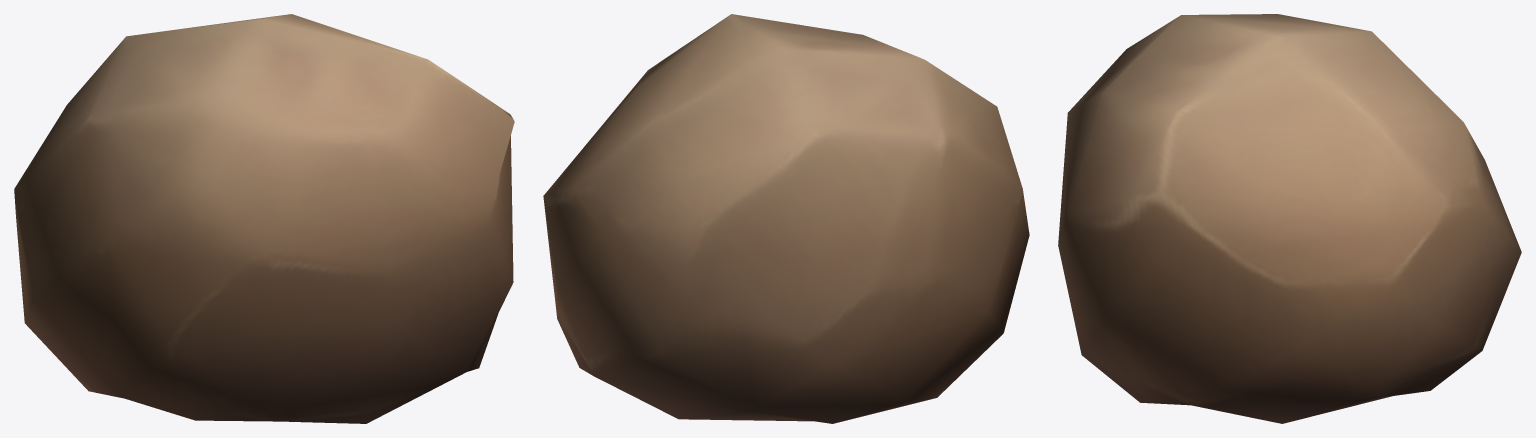
The model's file is jungle_stone_01.glb.
The picture shows the model from 3 angles, left to right: view 1: azimuth 30°, elevation 25°; view 2: azimuth 150°, elevation 25°; view 3: azimuth 270°, elevation 25°; orthographic projection. The views are drawn at different scales.
Visible parts, largest first — view 1: stone_lp; view 2: stone_lp; view 3: stone_lp.
Part boxes in pixels (box(x1,y1,x2,y2)): stone_lp: box(14, 14, 514, 423); stone_lp: box(543, 14, 1029, 423); stone_lp: box(1058, 14, 1521, 423).
Bounding box in the file's own units: 1.6 × 1.22 × 1.58.
Materials: 1 (1 with a texture image).
